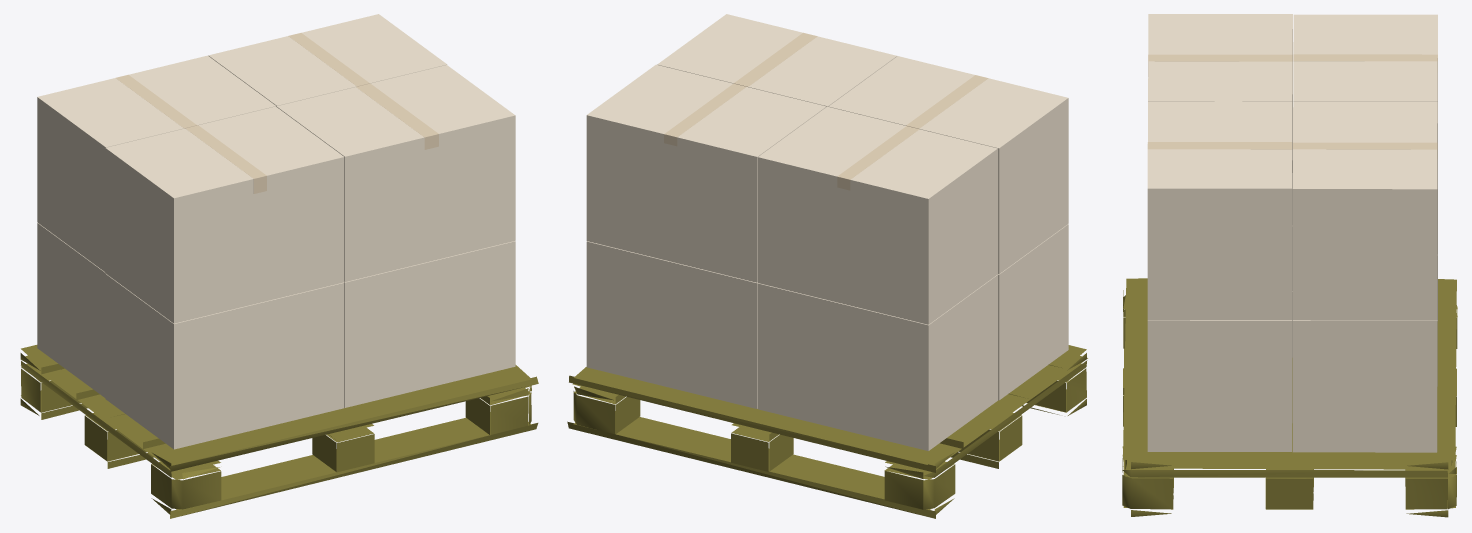
Rendered from shelf_LOD1.glb.
3 renders of one model, left to right at view 1: azimuth 30°, elevation 25°; view 2: azimuth 150°, elevation 25°; view 3: azimuth 270°, elevation 25°, orthographic. The views are drawn at different scales.
Visible parts, largest first — view 1: Component465-3d66-CoronaLegacyMtl-18517304-087.003, Component465-3d66-CoronaLegacyMtl-18517304-087.002, Component465-3d66-CoronaLegacyMtl-18517304-087.006, 木制货架.1-3d66-CoronaLegacyMtl-18517304-092, Component465-3d66-CoronaLegacyMtl-18517304-087.005, Component465-3d66-CoronaLegacyMtl-18517304-087.001, Component465-3d66-CoronaLegacyMtl-18517304-087.004, Component465-3d66-CoronaLegacyMtl-18517304-087, Component467-3d66-CoronaLegacyMtl-18517304-085, Component469-3d66-CoronaLegacyMtl-18517304-085, Component468-3d66-CoronaLegacyMtl-18517304-085, Component470-3d66-CoronaLegacyMtl-18517304-085; view 2: Component465-3d66-CoronaLegacyMtl-18517304-087.001, Component465-3d66-CoronaLegacyMtl-18517304-087.004, Component465-3d66-CoronaLegacyMtl-18517304-087, 木制货架.1-3d66-CoronaLegacyMtl-18517304-092, Component465-3d66-CoronaLegacyMtl-18517304-087.007, Component465-3d66-CoronaLegacyMtl-18517304-087.003, Component465-3d66-CoronaLegacyMtl-18517304-087.002, Component465-3d66-CoronaLegacyMtl-18517304-087.006, Component470-3d66-CoronaLegacyMtl-18517304-085, Component468-3d66-CoronaLegacyMtl-18517304-085, Component467-3d66-CoronaLegacyMtl-18517304-085, Component469-3d66-CoronaLegacyMtl-18517304-085; view 3: Component465-3d66-CoronaLegacyMtl-18517304-087.002, Component465-3d66-CoronaLegacyMtl-18517304-087.004, 木制货架.1-3d66-CoronaLegacyMtl-18517304-092, Component465-3d66-CoronaLegacyMtl-18517304-087.007, Component465-3d66-CoronaLegacyMtl-18517304-087.005, Component465-3d66-CoronaLegacyMtl-18517304-087.003, Component465-3d66-CoronaLegacyMtl-18517304-087.001, Component467-3d66-CoronaLegacyMtl-18517304-085, Component469-3d66-CoronaLegacyMtl-18517304-085, Component470-3d66-CoronaLegacyMtl-18517304-085, Component468-3d66-CoronaLegacyMtl-18517304-085.
Part boxes in pixels (x1,y1,x2,y2): Component465-3d66-CoronaLegacyMtl-18517304-087.003: (105,106,344,323); Component465-3d66-CoronaLegacyMtl-18517304-087.002: (276,65,515,281); Component465-3d66-CoronaLegacyMtl-18517304-087.006: (105,273,344,449); 木制货架.1-3d66-CoronaLegacyMtl-18517304-092: (20,345,538,518); Component465-3d66-CoronaLegacyMtl-18517304-087.005: (344,241,515,407); Component465-3d66-CoronaLegacyMtl-18517304-087.001: (37,55,276,271); Component465-3d66-CoronaLegacyMtl-18517304-087.004: (208,14,447,106); Component465-3d66-CoronaLegacyMtl-18517304-087: (37,222,105,397); Component467-3d66-CoronaLegacyMtl-18517304-085: (356,83,438,149); Component469-3d66-CoronaLegacyMtl-18517304-085: (185,125,266,193); Component468-3d66-CoronaLegacyMtl-18517304-085: (289,33,369,86); Component470-3d66-CoronaLegacyMtl-18517304-085: (116,75,196,128); Component465-3d66-CoronaLegacyMtl-18517304-087.001: (758,106,997,324); Component465-3d66-CoronaLegacyMtl-18517304-087.004: (586,64,826,282); Component465-3d66-CoronaLegacyMtl-18517304-087: (758,274,997,450); 木制货架.1-3d66-CoronaLegacyMtl-18517304-092: (567,345,1087,518); Component465-3d66-CoronaLegacyMtl-18517304-087.007: (586,241,757,408); Component465-3d66-CoronaLegacyMtl-18517304-087.003: (828,56,1068,273); Component465-3d66-CoronaLegacyMtl-18517304-087.002: (657,14,897,106); Component465-3d66-CoronaLegacyMtl-18517304-087.006: (998,224,1068,400); Component470-3d66-CoronaLegacyMtl-18517304-085: (837,126,919,190); Component468-3d66-CoronaLegacyMtl-18517304-085: (664,84,745,145); Component467-3d66-CoronaLegacyMtl-18517304-085: (734,33,817,86); Component469-3d66-CoronaLegacyMtl-18517304-085: (906,75,987,128); Component465-3d66-CoronaLegacyMtl-18517304-087.002: (1147,101,1292,319); Component465-3d66-CoronaLegacyMtl-18517304-087.004: (1292,102,1437,320); 木制货架.1-3d66-CoronaLegacyMtl-18517304-092: (1122,278,1457,517); Component465-3d66-CoronaLegacyMtl-18517304-087.007: (1292,255,1437,452); Component465-3d66-CoronaLegacyMtl-18517304-087.005: (1147,291,1292,451); Component465-3d66-CoronaLegacyMtl-18517304-087.003: (1148,14,1292,225); Component465-3d66-CoronaLegacyMtl-18517304-087.001: (1293,14,1437,188); Component467-3d66-CoronaLegacyMtl-18517304-085: (1148,142,1291,149); Component469-3d66-CoronaLegacyMtl-18517304-085: (1148,55,1292,61); Component470-3d66-CoronaLegacyMtl-18517304-085: (1293,54,1437,61); Component468-3d66-CoronaLegacyMtl-18517304-085: (1293,143,1437,149).
Size of the model in its own units: 123 by 98.89 by 92.65.
Materials: 3 (1 with a texture image).
